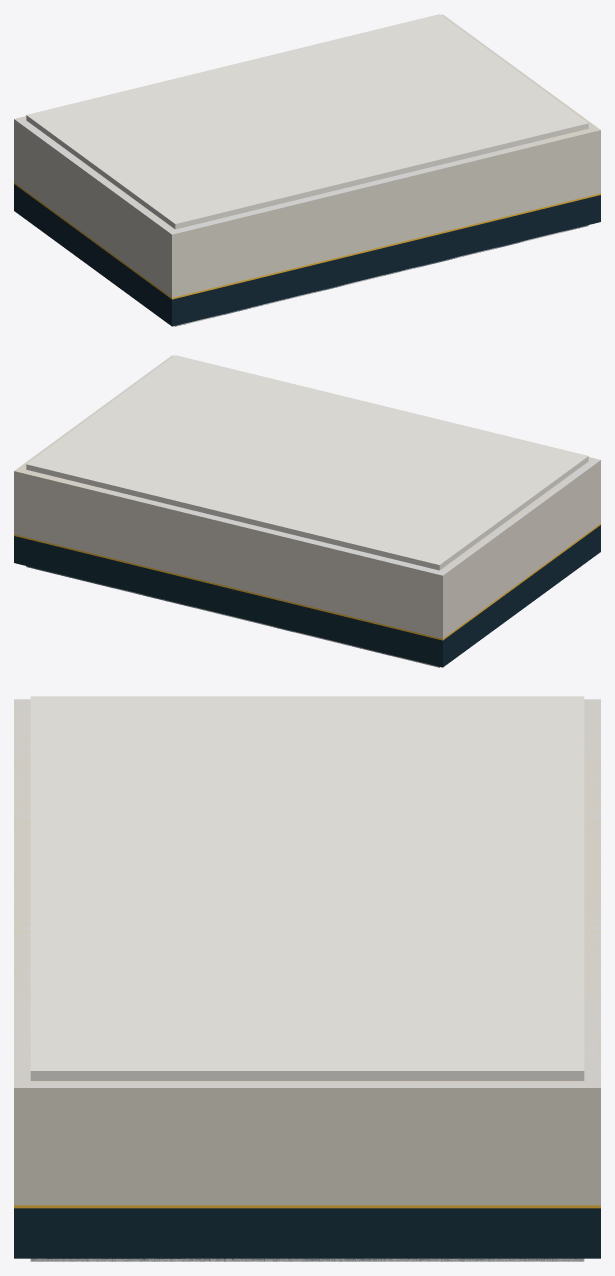
Rendered from eoc.fbx.
3 views of the same model, one above another, from view 1: azimuth 30°, elevation 25°; view 2: azimuth 150°, elevation 25°; view 3: azimuth 270°, elevation 25° (orthographic). The views are drawn at different scales.
Visible parts, largest first — view 1: M__eoc, COL__eoc_wall_s, COL__eoc_wall_w, FLOOR__eoc; view 2: M__eoc, COL__eoc_wall_n, COL__eoc_wall_w, FLOOR__eoc; view 3: M__eoc, COL__eoc_wall_n, COL__eoc_wall_s, COL__eoc_wall_e, FLOOR__eoc.
Boxes of the visible parts, box(x1,y1,x2,y2) form: M__eoc: box(14, 14, 600, 326); COL__eoc_wall_s: box(168, 134, 567, 234); COL__eoc_wall_w: box(19, 120, 171, 231); FLOOR__eoc: box(174, 226, 586, 326); M__eoc: box(14, 355, 600, 667); COL__eoc_wall_n: box(40, 473, 446, 575); COL__eoc_wall_w: box(441, 461, 595, 572); FLOOR__eoc: box(27, 567, 440, 667); M__eoc: box(14, 696, 600, 1261); COL__eoc_wall_n: box(584, 699, 600, 1087); COL__eoc_wall_s: box(14, 699, 30, 1087); COL__eoc_wall_e: box(30, 1081, 584, 1087); FLOOR__eoc: box(30, 1258, 584, 1261).
Bounding box in the file's own units: 16.6 × 3.8 × 10.6.
